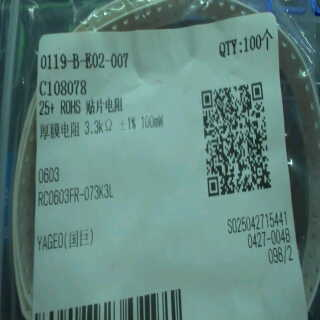3.3kO: (80, 116, 118, 141)
